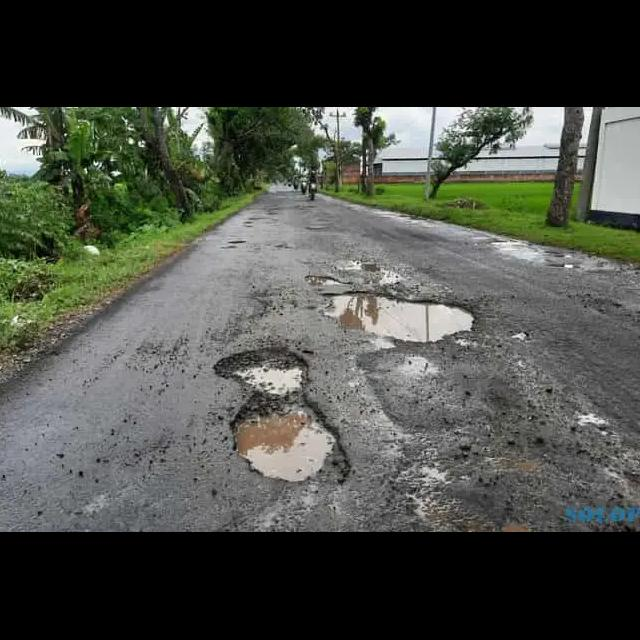lubang_kecil: (198, 343, 347, 494), (298, 268, 474, 356), (564, 289, 636, 321)
